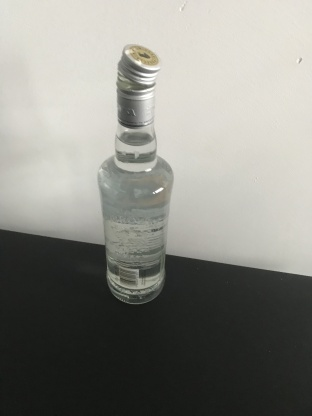nakretka: (114, 42, 162, 128)
